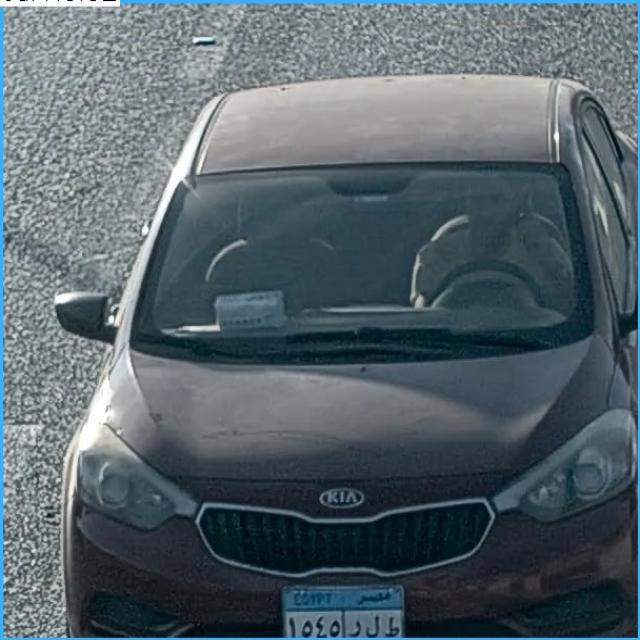windshield: (135, 175, 581, 332)
